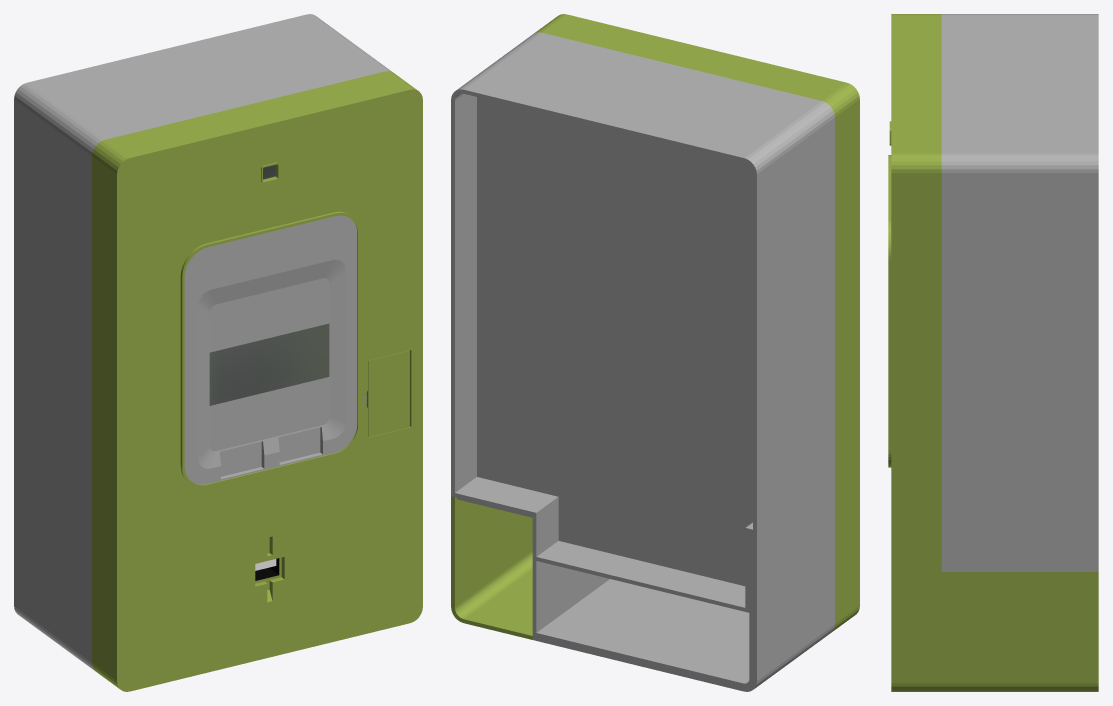
The model's file is compteur-linky.glb.
The picture shows the model from 3 angles, left to right: view 1: azimuth 30°, elevation 25°; view 2: azimuth 150°, elevation 25°; view 3: azimuth 270°, elevation 25°; orthographic projection.
Visible parts, largest first — view 1: Compteur_Linky; view 2: Compteur_Linky; view 3: Compteur_Linky.
Part boxes in pixels (x1=…): Compteur_Linky: x1=14, y1=14, x2=422, y2=691; Compteur_Linky: x1=451, y1=14, x2=859, y2=691; Compteur_Linky: x1=888, y1=14, x2=1098, y2=691.
Bounding box in the file's own units: 0.12 × 0.2 × 0.071.
8 materials, 3 textured.
